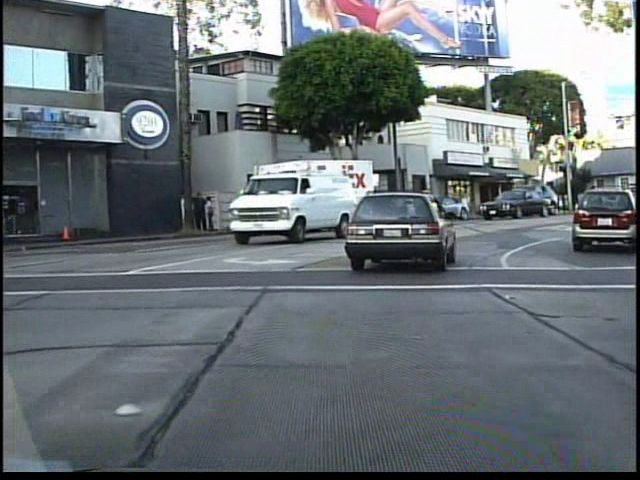person: (192, 190, 209, 234), (207, 194, 221, 232)
